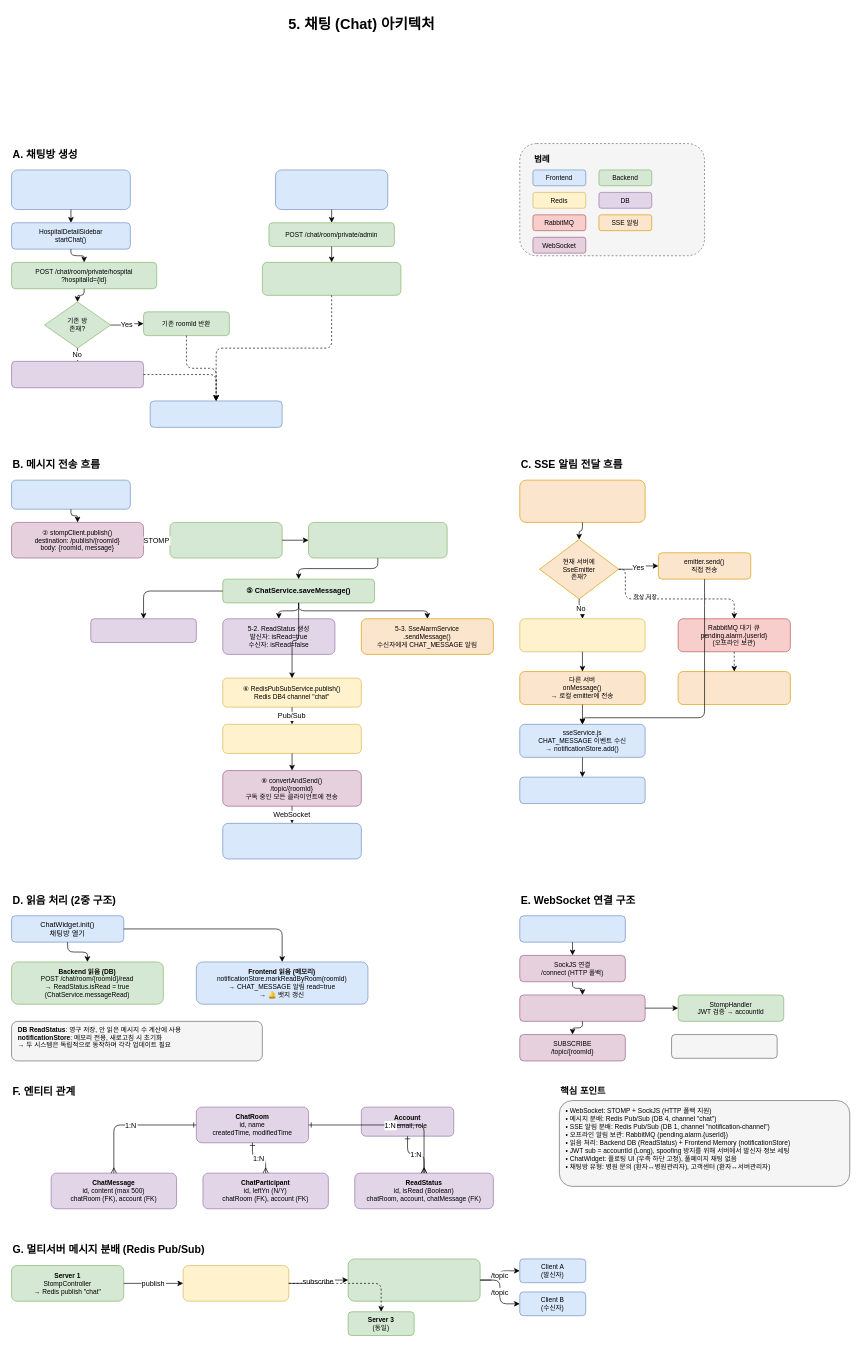
Some shapes in this 861 by 1347 pixel diagram are drawn without their labels. The centre of each missing label's shape, as x and y in pixels:
5-1. ChatMessage 저장: point 143,630
ChatRoom 생성/반환 (name: "서버 문의") 환자 + 서버관리자 참여: point 331,278
ChatWidget connectStomp(): point 572,928
ChatWidget 열림 visible=true, roomId, title: point 215,413
reconnectDelay: 5000ms 자동 재연결: point 724,1046
Redis (DB 4) channel: "chat" Pub/Sub: point 235,1283
Redis Pub/Sub channel: notification-channel (DB 1): point 582,635
Server 2 RedisPubSubService .onMessage() → /topic/{roomId} 브로드캐스트: point 413,1279
SseAlarmService .sendMessage() type=CHAT_MESSAGE reservationId=roomId: point 582,500
STOMP CONNECT Authorization: Bearer {JWT}: point 582,1007
① 사용자 메시지 입력 Enter 또는 전송 버튼: point 70,494
③ StompHandler JWT 토큰 검증 accountId 추출 (sub): point 225,540
④ StompController .sendMessage() 발신자 정보 세팅 (spoofing 방지): point 377,540
⑦ RedisPubSubService.onMessage() (모든 서버에서 수신): point 291,738
⑨ ChatWidget 수신 messages 배열에 추가 scrollToBottom(): point 291,841
새 ChatRoom 생성 + ChatParticipant 2명 추가: point 77,374
재접속 시 (/sse/connect) flushPendingAlarms() → RabbitMQ 큐 drain: point 733,688
환자 마이페이지에서 「고객센터」클릭: point 331,189
환자 병원 상세 페이지에서 「채팅으로 문의하기」클릭: point 70,189
🔔 NotificationBell 알림 뱃지 표시: point 582,790
